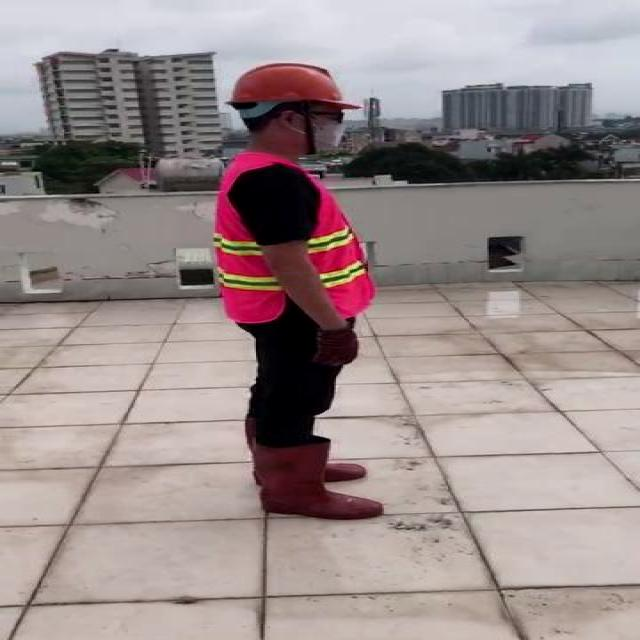boots: (254, 441, 382, 519)
face_mask: (299, 104, 356, 154)
hand_glove: (313, 326, 359, 367)
head_helmet: (229, 62, 363, 114)
person: (194, 57, 400, 526)
vest: (213, 155, 379, 324)
